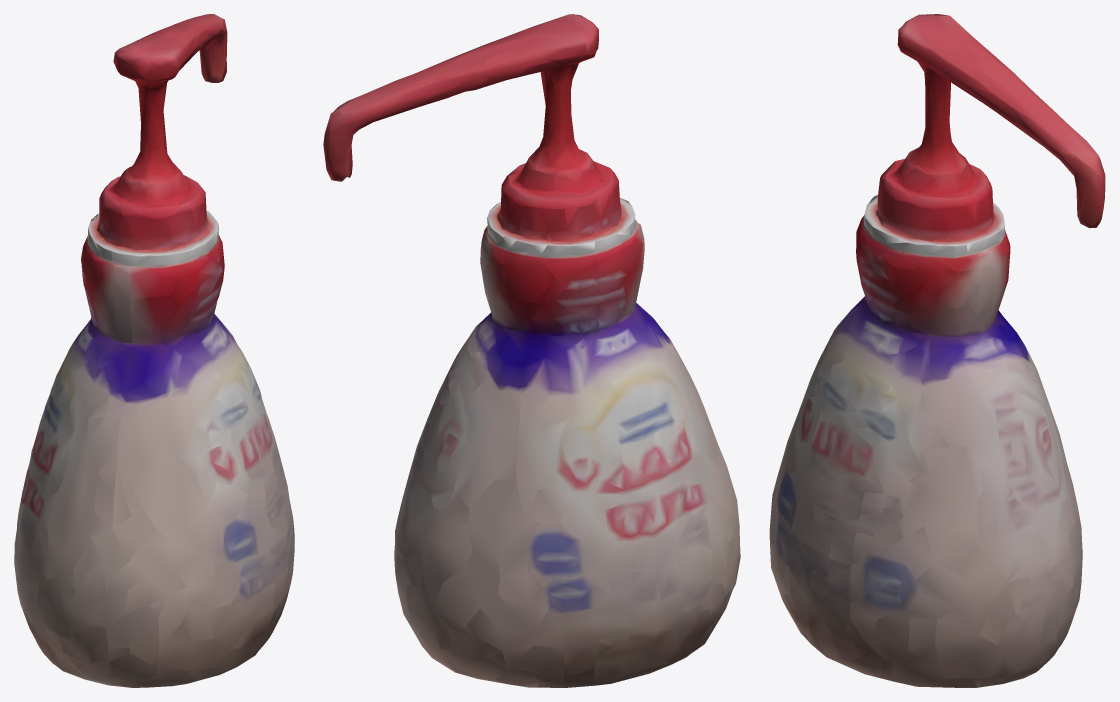
File: 0008_mask_009_creamer_bottle.glb
3 renders of one model, left to right at view 1: azimuth 30°, elevation 25°; view 2: azimuth 150°, elevation 25°; view 3: azimuth 270°, elevation 25°, orthographic. The views are drawn at different scales.
Parts seen in each view (by area): view 1: mask_009_object; view 2: mask_009_object; view 3: mask_009_object.
Part boxes in pixels (bbox=[...]): mask_009_object: bbox=[14, 14, 294, 687]; mask_009_object: bbox=[323, 14, 740, 687]; mask_009_object: bbox=[769, 14, 1105, 687].
Bounding box in the file's own units: 0.114 × 0.2273 × 0.1125.
